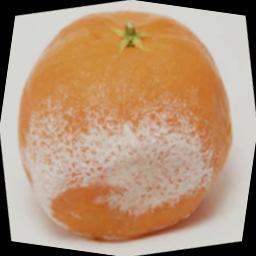Orange Rotten: (0, 0, 256, 251)
